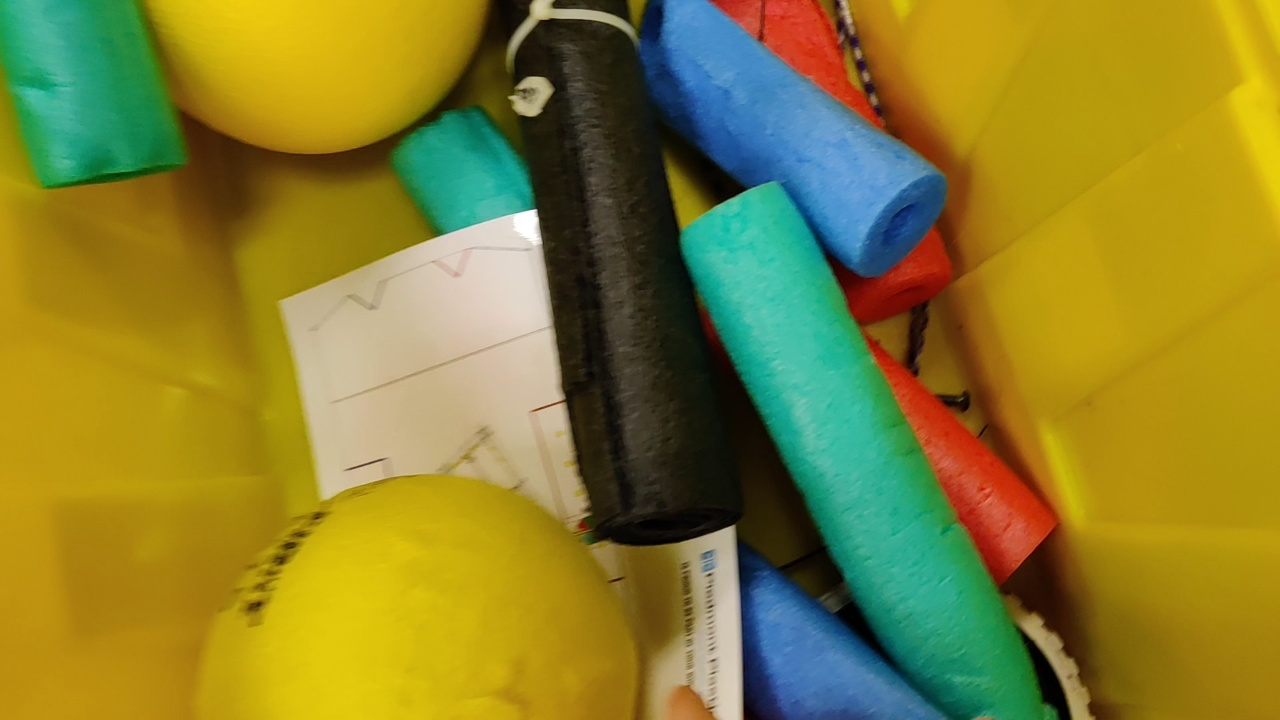Ball: (201, 474, 646, 720)
